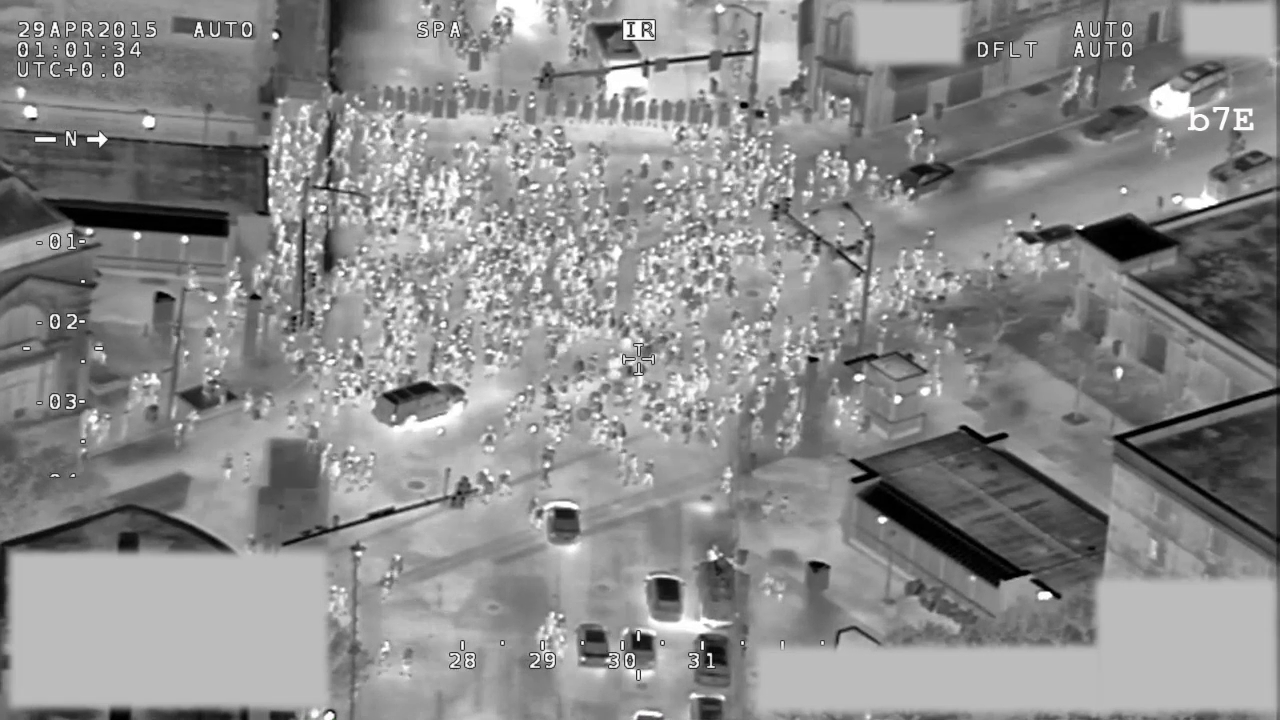vehicle: (577, 17, 654, 100), (371, 378, 471, 436), (1205, 128, 1280, 203), (1143, 63, 1236, 119), (694, 553, 741, 627), (1079, 103, 1152, 146), (535, 497, 588, 553), (641, 567, 688, 628), (619, 623, 660, 688), (888, 161, 960, 197), (691, 630, 733, 691), (573, 619, 613, 669)
